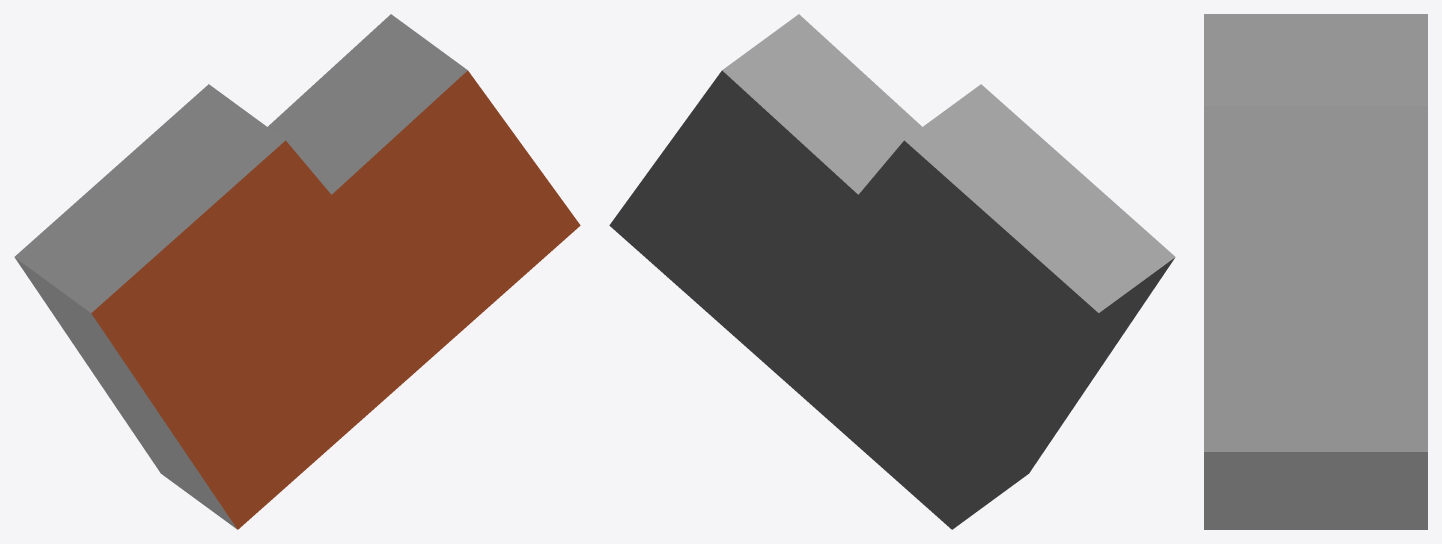
The model's file is construction_1756_assumed_A_Casa_h6m.obj.
3 renders of one model, left to right at view 1: azimuth 30°, elevation 25°; view 2: azimuth 150°, elevation 25°; view 3: azimuth 270°, elevation 25°, orthographic. The views are drawn at different scales.
Visible parts, largest first — view 1: construction_1756_assumed_A_Casa; view 2: construction_1756_assumed_A_Casa; view 3: construction_1756_assumed_A_Casa.
Part boxes in pixels (<box>): construction_1756_assumed_A_Casa: <box>14,14,580,529</box>; construction_1756_assumed_A_Casa: <box>609,14,1175,529</box>; construction_1756_assumed_A_Casa: <box>1204,14,1427,529</box>.
Size of the model in its own units: 22.04 by 17.36 by 6.
